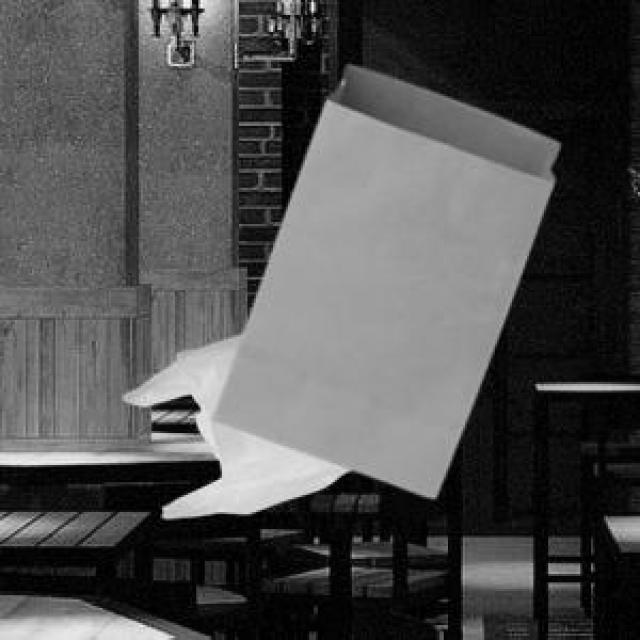paper: (209, 62, 555, 493)
